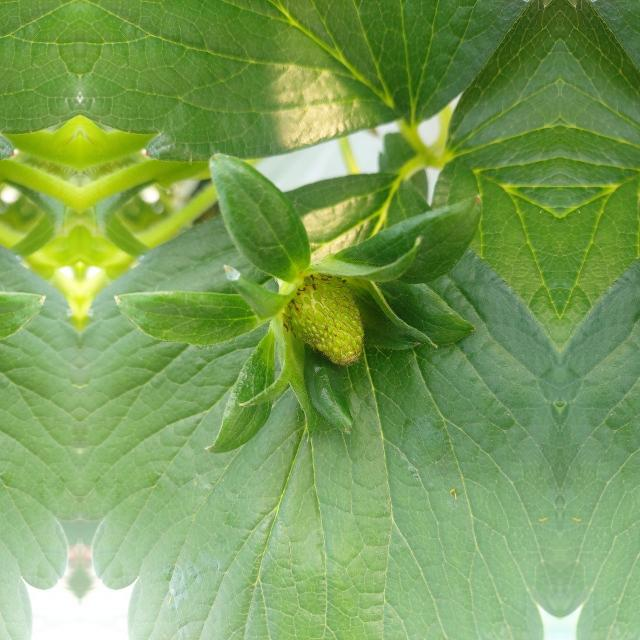Health_25: (281, 270, 365, 366)
